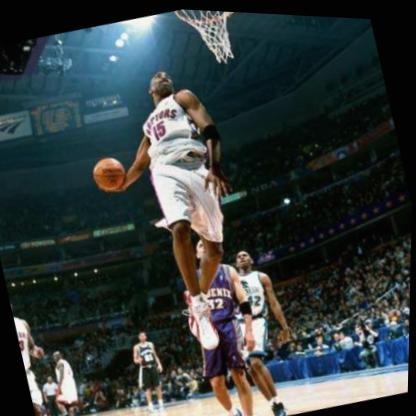basketball: (91, 152, 130, 193)
